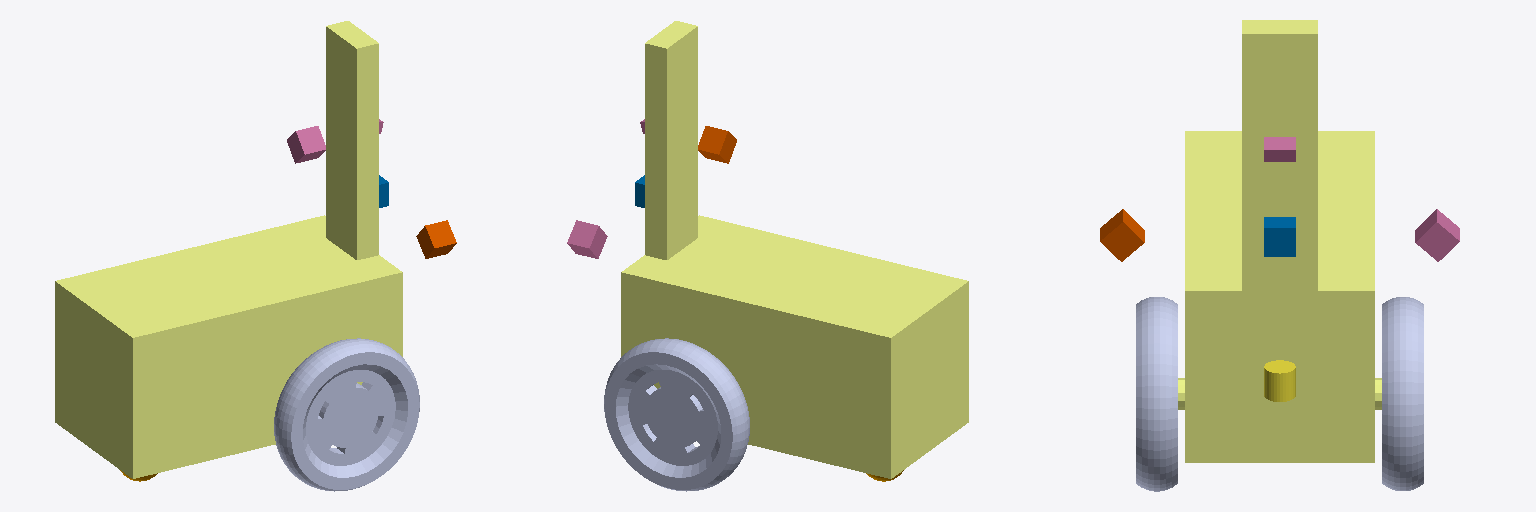
URDF robot description (AutoBot):
<?xml version="1.0" encoding="utf-8"?>
<!-- This URDF was automatically created by SolidWorks to URDF Exporter! Originally created by [author] ([email redacted]) 
     Commit Version: 1.6.0-1-g15f4949  Build Version: 1.6.7594.29634
     For more information, please see http://wiki.ros.org/sw_urdf_exporter -->
<robot
  name="AutoBot">
  <link
    name="base_link">
    <inertial>
      <origin
        xyz="-0.0281176186318505 3.46944695195361E-18 0.0242056021265495"
        rpy="0 0 0" />
      <mass
        value="20" />
      <inertia
        ixx="39.3347960457863"
        ixy="2.85952776841653E-16"
        ixz="-8.3846836729522"
        iyy="84.2765821819787"
        iyz="5.58570830390226E-15"
        izz="71.4566092301352" />
    </inertial>
    <visual>
      <origin
        xyz="0 0 0"
        rpy="0 0 0" />
      <geometry>
        <mesh
          filename="package://AutoBot/meshes/base_link.STL" />
      </geometry>
      <material
        name="">
        <color
          rgba="0.968627450980392 1 0.576470588235294 1" />
      </material>
    </visual>
    <collision>
      <origin
        xyz="0 0 0"
        rpy="0 0 0" />
      <geometry>
        <mesh
          filename="package://AutoBot/meshes/base_link.STL" />
      </geometry>
    </collision>
  </link>
  <link
    name="base_link_to_Left_wheel">
    <inertial>
      <origin
        xyz="5.5511E-17 -0.029868 -1.1102E-16"
        rpy="0 0 0" />
      <mass
        value="8" />
      <inertia
        ixx="0.75096"
        ixy="-1.4332E-17"
        ixz="-1.5881E-17"
        iyy="1.4522"
        iyz="9.1965E-17"
        izz="0.75096" />
    </inertial>
    <visual>
      <origin
        xyz="0 0 0"
        rpy="0 0 0" />
      <geometry>
        <mesh
          filename="package://AutoBot/meshes/base_link_to_Left_wheel.STL" />
      </geometry>
      <material
        name="">
        <color
          rgba="0.79216 0.81961 0.93333 1" />
      </material>
    </visual>
    <collision>
      <origin
        xyz="0 0 0"
        rpy="0 0 0" />
      <geometry>
        <mesh
          filename="package://AutoBot/meshes/base_link_to_Left_wheel.STL" />
      </geometry>
    </collision>
  </link>
  <joint
    name="Left_wheel"
    type="continuous">
    <origin
      xyz="0.24475 0.42 -0.2107"
      rpy="0 0 0" />
    <parent
      link="base_link" />
    <child
      link="base_link_to_Left_wheel" />
    <axis
      xyz="0 1 0" />
  </joint>
  <link
    name="base_link_to_Right_wheel">
    <inertial>
      <origin
        xyz="2.2204E-16 0.029868 -1.1102E-16"
        rpy="0 0 0" />
      <mass
        value="8" />
      <inertia
        ixx="0.75096"
        ixy="1.9739E-18"
        ixz="-6.8063E-17"
        iyy="1.4522"
        iyz="4.3994E-18"
        izz="0.75096" />
    </inertial>
    <visual>
      <origin
        xyz="0 0 0"
        rpy="0 0 0" />
      <geometry>
        <mesh
          filename="package://AutoBot/meshes/base_link_to_Right_wheel.STL" />
      </geometry>
      <material
        name="">
        <color
          rgba="0.79216 0.81961 0.93333 1" />
      </material>
    </visual>
    <collision>
      <origin
        xyz="0 0 0"
        rpy="0 0 0" />
      <geometry>
        <mesh
          filename="package://AutoBot/meshes/base_link_to_Right_wheel.STL" />
      </geometry>
    </collision>
  </link>
  <joint
    name="Right_wheel"
    type="continuous">
    <origin
      xyz="0.24475 -0.42 -0.2107"
      rpy="0 0 0" />
    <parent
      link="base_link" />
    <child
      link="base_link_to_Right_wheel" />
    <axis
      xyz="0 1 0" />
  </joint>

  <link name="lidar">
    <visual>
      <geometry>
        <cylinder radius="0.05" length="0.1"/>
      </geometry>
    </visual>
  </link>

  <gazebo reference="lidar">
    <sensor type="ray" name="lidar">
      <visualize>true</visualize>
      <update_rate>10</update_rate>
      <ray>
        <!-- Use gaussian noise -->
        <!--
        <noise>
        <type>gaussian</type>
        <mean>0.0</mean>
        <stddev>0.02</stddev>
      </noise>
      -->
        <scan>
          <horizontal>
            <samples>100</samples>
            <resolution>3.6</resolution>
            <min_angle>-1.53589</min_angle>
            <max_angle>1.53589</max_angle>
          </horizontal>
        </scan>
        <range>
          <min>0.05</min>
          <max>30</max>
          <resolution>0.02</resolution>
        </range>
      </ray>
      <plugin name="lidar_plugin" filename="libgazebo_ros_laser.so">
        <topicName>/scan</topicName>
        <frameName>/lidar</frameName>
      </plugin>
    </sensor>
  </gazebo>

  <link name="usb_cam_center">
    <visual>
      <geometry>
        <box size="0.1 0.1 0.1"/>
      </geometry>
    </visual>
  </link>

  <link name="usb_cam_right">
    <visual>
      <geometry>
        <box size="0.1 0.1 0.1"/>
      </geometry>
    </visual>
  </link>

  <link name="usb_cam_left">
    <visual>
      <geometry>
        <box size="0.1 0.1 0.1"/>
      </geometry>
    </visual>
  </link>

  <link name="optical_cam_center"/>
  <link name="optical_cam_right"/>
  <link name="optical_cam_left"/> 
  <link name="optical_depth_cam"/>
  <link name="optical_lidar"/>

  <gazebo reference="usb_cam_center">
    <sensor name="center_camera" type="camera">
        <camera>
          <!-- <horizontal_fov>1.2290609</horizontal_fov> -->
          <horizontal_fov>2.239</horizontal_fov>
          <vertical_fov>1.995</vertical_fov>
          <image>
            <width>640</width>
            <height>512</height>
          </image>
          <clip>
            <near>0.1</near>
            <far>100</far>
          </clip>
          <!--
          <distortion>
            <k1>-0.25</k1>
            <k2>0.12</k2>
            <k3>0.0</k3>
            <p1>-0.00028</p1>
            <p2>-0.00005</p2>
            <center>0.5 0.5</center>
          </distortion>
          -->
        </camera>
        <always_on>1</always_on>
        <update_rate>30</update_rate>
        <plugin name="camera_controller" filename="libgazebo_ros_camera.so">
          <alwaysOn>true</alwaysOn>
          <updateRate>30.0</updateRate>
          <cameraName>usb_cam_center</cameraName>
          <imageTopicName>image_raw_center</imageTopicName>
          <cameraInfoTopicName>camera_info</cameraInfoTopicName>
          <frameName>optical_cam_center</frameName>
          <hackBaseline>0.0</hackBaseline>
          <distortionK1>0.0</distortionK1>
          <distortionK2>0.0</distortionK2>
          <distortionK3>0.0</distortionK3>
          <distortionT1>0.0</distortionT1>
          <distortionT2>0.0</distortionT2>
        </plugin>
      </sensor>
  </gazebo>

  <gazebo reference="usb_cam_right">
    <sensor name="right_camera" type="camera">
        <camera>
          <!-- <horizontal_fov>1.2290609</horizontal_fov> -->
          <horizontal_fov>2.239</horizontal_fov>
          <vertical_fov>1.995</vertical_fov>
          <image>
            <width>640</width>
            <height>512</height>
          </image>
          <clip>
            <near>0.1</near>
            <far>100</far>
          </clip>
          <!--
          <distortion>
            <k1>-0.25</k1>
            <k2>0.12</k2>
            <k3>0.0</k3>
            <p1>-0.00028</p1>
            <p2>-0.00005</p2>
            <center>0.5 0.5</center>
          </distortion>
          -->
        </camera>
        <always_on>1</always_on>
        <update_rate>30</update_rate>
        <plugin name="camera_controller" filename="libgazebo_ros_camera.so">
          <alwaysOn>true</alwaysOn>
          <updateRate>30.0</updateRate>
          <cameraName>usb_cam_right</cameraName>
          <imageTopicName>image_raw_right</imageTopicName>
          <cameraInfoTopicName>camera_info</cameraInfoTopicName>
          <frameName>optical_cam_right</frameName>
          <hackBaseline>0.0</hackBaseline>
          <distortionK1>0.0</distortionK1>
          <distortionK2>0.0</distortionK2>
          <distortionK3>0.0</distortionK3>
          <distortionT1>0.0</distortionT1>
          <distortionT2>0.0</distortionT2>
        </plugin>
      </sensor>
  </gazebo>

  <gazebo reference="usb_cam_left">
    <sensor name="left_camera" type="camera">
        <camera>
          <!-- <horizontal_fov>1.2290609</horizontal_fov> -->
          <horizontal_fov>2.239</horizontal_fov>
          <vertical_fov>1.995</vertical_fov>
          <image>
            <width>640</width>
            <height>512</height>
          </image>
          <clip>
            <near>0.1</near>
            <far>100</far>
          </clip>
          <!--
          <distortion>
            <k1>-0.25</k1>
            <k2>0.12</k2>
            <k3>0.0</k3>
            <p1>-0.00028</p1>
            <p2>-0.00005</p2>
            <center>0.5 0.5</center>
          </distortion>
          -->
        </camera>
        <always_on>1</always_on>
        <update_rate>30</update_rate>
        <plugin name="camera_controller" filename="libgazebo_ros_camera.so">
          <alwaysOn>true</alwaysOn>
          <updateRate>30.0</updateRate>
          <cameraName>usb_cam_left</cameraName>
          <imageTopicName>image_raw_left</imageTopicName>
          <cameraInfoTopicName>camera_info</cameraInfoTopicName>
          <frameName>optical_cam_left</frameName>
          <hackBaseline>0.0</hackBaseline>
          <distortionK1>0.0</distortionK1>
          <distortionK2>0.0</distortionK2>
          <distortionK3>0.0</distortionK3>
          <distortionT1>0.0</distortionT1>
          <distortionT2>0.0</distortionT2>
        </plugin>
      </sensor>
  </gazebo>

  <link name="imu">
    <visual>
      <geometry>
        <box size="0.1 0.1 0.1"/>
      </geometry>
    </visual>
  </link>

  <link name="magnetometer">
    <visual>
      <geometry>
        <box size="0.1 0.1 0.1"/>
      </geometry>
    </visual>
  </link>

  <link name="kinect_cam">
    <visual>
      <geometry>
        <box size="0.1 0.1 0.05"/>
      </geometry>
    </visual>
  </link>

  <link name="gps">
    <visual>
      <geometry>
        <cylinder length="0.05" radius="0.1"/>
      </geometry>
    </visual>
  </link>

  <gazebo>

    <plugin name="gazebo_ros_control" filename="libgazebo_ros_control.so">
      <robotSimType>gazebo_ros_control/DefaultRobotHWSim</robotSimType>
    </plugin>

    <plugin filename="libhector_gazebo_ros_imu.so" name="imu">
      <serviceName>/imu/calibrate</serviceName>
      <updateRate>200.0</updateRate>
      <bodyName>imu</bodyName>
      <frameId>imu</frameId>
      <topicName>/imu</topicName>
      <rpyOffset>0 0 0</rpyOffset>
      <xyzOffset>0 0 0</xyzOffset>
      <gaussianNoise>0.00000001</gaussianNoise>
      <accelDrift>0.00000001 0.00000001 0.00000001</accelDrift>
      <accelDriftFrequency>0.00000001 0.00000001 0.00000001</accelDriftFrequency>
      <accelGaussianNoise>0.00000001 0.00000001 0.00000001</accelGaussianNoise>
      <rateDrift>0.0 0.0 0.0</rateDrift>
      <rateDriftFrequency>0.0 0.0 0.0</rateDriftFrequency>
      <rateGaussianNoise>0.0 0.0 0.0</rateGaussianNoise>
      <headingDrift>0.0 0.0 0.0</headingDrift>
      <headingDriftFrequency>0.0 0.0 0.0</headingDriftFrequency>
      <headingGaussianNoise>0.0 0.0 0.0</headingGaussianNoise>
      <yawOffset>1.5707963</yawOffset>
    </plugin>
    <plugin filename="libhector_gazebo_ros_imu.so" name="magnetometer">
      <serviceName>/magnetometer/calibrate</serviceName>
      <updateRate>200.0</updateRate>
      <bodyName>magnetometer</bodyName>
      <frameId>magnetometer</frameId>
      <topicName>/magnetometer</topicName>
      <rpyOffset>0 0 0</rpyOffset>
      <xyzOffset>0 0 0</xyzOffset>
      <gaussianNoise>0.00000001</gaussianNoise>
      <accelDrift>0.00000001 0.00000001 0.00000001</accelDrift>
      <accelDriftFrequency>0.00000001 0.00000001 0.00000001</accelDriftFrequency>
      <accelGaussianNoise>0.00000001 0.00000001 0.00000001</accelGaussianNoise>
      <rateDrift>0.0 0.0 0.0</rateDrift>
      <rateDriftFrequency>0.0 0.0 0.0</rateDriftFrequency>
      <rateGaussianNoise>0.0 0.0 0.0</rateGaussianNoise>
      <headingDrift>0.0 0.0 0.0</headingDrift>
      <headingDriftFrequency>0.0 0.0 0.0</headingDriftFrequency>
      <headingGaussianNoise>0.0 0.0 0.0</headingGaussianNoise>
      <yawOffset>0</yawOffset>
    </plugin>

    <plugin filename="libhector_gazebo_ros_gps.so" name="gps">
      <updateRate>20.0</updateRate>
      <bodyName>base_link</bodyName>
      <frameId>base_link</frameId>
      <topicName>/fix</topicName>
      <velocityTopicName>/fix_velocity</velocityTopicName>
      <referenceLatitude>33.774497</referenceLatitude>
      <referenceLongitude>-84.405001</referenceLongitude>
      <referenceAltitude>309.0</referenceAltitude>
      <drift>0.001 0.001 0.001</drift>
      <gaussianNoise>0.0001 0.0001 0.0001</gaussianNoise>
      <velocityDrift>0 0 0</velocityDrift>
      <velocityGaussianNoise>0.005 0.005 0.05</velocityGaussianNoise>
    </plugin>

    <plugin name="differential_drive_controller" filename="libgazebo_ros_diff_drive.so">
      <updateRate>50</updateRate>
      <leftJoint>Left_wheel</leftJoint>
      <rightJoint>Right_wheel</rightJoint>
      <wheelSeparation>0.8</wheelSeparation>
      <wheelDiameter>0.31</wheelDiameter>
      <wheelAcceleration>1.0</wheelAcceleration>
      <wheelTorque>20</wheelTorque>
      <commandTopic>cmd_vel</commandTopic>
      <odometryTopic>odom</odometryTopic>
      <odometryFrame>odom</odometryFrame>
      <robotBaseFrame>base_link</robotBaseFrame>
      
      <odometrySource>1</odometrySource>
      <publishWheelTF>true</publishWheelTF>
      <publishOdom>true</publishOdom>
      <publishWheelJointState>true</publishWheelJointState>
      
      <legacyMode>false</legacyMode>
    </plugin> 
  
  </gazebo>

  <gazebo reference="kinect_cam">
    <sensor name="depth_camera" type="depth">
      <update_rate>30</update_rate>
      <camera>
        <horizontal_fov>1.047198</horizontal_fov>
        <image>
          <width>640</width>
          <height>480</height>
          <format>R8G8B8</format>
        </image>
        <clip>
          <near>0.05</near>
          <far>5</far>
        </clip>
      </camera>
      <plugin name="kinect_cam_controller" filename="libgazebo_ros_openni_kinect.so">
        <baseline>0.2</baseline>
        <alwaysOn>true</alwaysOn>
        <updateRate>1.0</updateRate>
        <cameraName>kinect_cam</cameraName>
        <imageTopicName>/camera/color/image_raw</imageTopicName>
        <cameraInfoTopicName>/camera/color/camera_info</cameraInfoTopicName>
        <depthImageTopicName>/camera/depth/image_raw</depthImageTopicName>
        <depthImageInfoTopicName>/camera/depth/camera_info</depthImageInfoTopicName>
        <pointCloudTopicName>/camera/depth/points</pointCloudTopicName>
        <frameName>optical_depth_cam</frameName>
        <pointCloudCutoff>0.5</pointCloudCutoff>
        <pointCloudCutoffMax>3.0</pointCloudCutoffMax>
        <distortionK1>0.00000001</distortionK1>
        <distortionK2>0.00000001</distortionK2>
        <distortionK3>0.00000001</distortionK3>
        <distortionT1>0.00000001</distortionT1>
        <distortionT2>0.00000001</distortionT2>
        <CxPrime>0</CxPrime>
        <Cx>0</Cx>
        <Cy>0</Cy>
        <focalLength>0</focalLength>
        <hackBaseline>0</hackBaseline>
      </plugin>
    </sensor>
  </gazebo>

  <transmission name="trans_left_wheel">
    <type>transmission_interface/SimpleTransmission</type>
    <joint name="Left_wheel">
      <hardwareInterface>hardware_interface/EffortJointInterface</hardwareInterface>
    </joint>
    <actuator name="motor1">
      <hardwareInterface>hardware_interface/EffortJointInterface</hardwareInterface>
      <mechanicalReduction>1</mechanicalReduction>
    </actuator>
  </transmission>

  <transmission name="trans_right_wheel">
    <type>transmission_interface/SimpleTransmission</type>
    <joint name="Right_wheel">
      <hardwareInterface>hardware_interface/EffortJointInterface</hardwareInterface>
    </joint>
    <actuator name="motor1">
      <hardwareInterface>hardware_interface/EffortJointInterface</hardwareInterface>
      <mechanicalReduction>1</mechanicalReduction>
    </actuator>
  </transmission>
  
  <gazebo reference="base_link">
    <material>Gazebo/Grey</material>
    <mu1>0.2</mu1>
    <mu2>0.2</mu2>
  </gazebo>

  <gazebo reference="Left_wheel">
    <material>Gazebo/Grey</material>
    <mu1>0.4</mu1>
    <mu2>0.4</mu2>
  </gazebo>

  <gazebo reference="Right_wheel">
    <material>Gazebo/Grey</material>
    <mu1>0.4</mu1>
    <mu2>0.4</mu2>
  </gazebo>


  <joint name="base_link_to_imu" type="fixed">
    <parent link="base_link"/>
    <child link="imu"/>
    <origin xyz=" 0 0 0" rpy="0 0 0"/>
    <axis xyz="0 0 0"/>
  </joint>

  <joint name="base_link_to_magnetometer" type="fixed">
    <parent link="base_link"/>
    <child link="magnetometer"/>
    <origin xyz="0 0 0" rpy="0 0 0"/>
    <axis xyz="0 0 0"/>
  </joint>


  <joint name="base_link_to_lidar" type="fixed">
    <origin xyz="0.6 0 0" rpy="0 0 0" />
    <parent link="base_link"/>
    <child link="lidar"/>
  </joint>
  <joint name="optical_lidar_joint" type="fixed">
    <parent link="lidar"/>
    <child link="optical_lidar"/>
    <origin xyz="0 0 0" rpy="0 0 0"/>
  </joint>

<!-- center cam link orientation-->
  <joint name="base_link_to_center_camera" type="fixed">
    <origin xyz="0.58 0 0.5" rpy="0 0 0" />
    <parent link="base_link"/>
    <child link="usb_cam_center"/>
  </joint>
  <joint name="optical_cam_center_joint" type="fixed">
    <parent link="usb_cam_center"/>
    <child link="optical_cam_center"/>
    <origin xyz="0 0 0" rpy="-1.5708 0 -1.5708"/>
  </joint>

<!-- right cam link orientation-->
  <joint name="base_link_to_right_camera" type="fixed">
    <origin xyz="0.58 -0.5 0.5" rpy="0 0.75 -1.5708" />
    <parent link="base_link"/>
    <child link="usb_cam_right"/>
  </joint>
  <joint name="optical_cam_right_joint" type="fixed">
    <parent link="usb_cam_right"/>
    <child link="optical_cam_right"/>
    <!--origin xyz="0 0 0" rpy="-1.5708-0.5 0 -1.5708"/-->
    <origin xyz="0 0 0" rpy="-1.5708 0 -1.5708"/>
  </joint>

<!-- left cam link orientation-->
  <joint name="base_link_to_left_camera" type="fixed">
    <origin xyz="0.58 0.5 0.5" rpy="0 0.75 1.5708" />
    <parent link="base_link"/>
    <child link="usb_cam_left"/>
  </joint>
  <joint name="optical_cam_left_joint" type="fixed">
    <parent link="usb_cam_left"/>
    <child link="optical_cam_left"/>
    <origin xyz="0 0 0" rpy="-1.5708 0 -1.5708"/>
  </joint> 

  <!-- depth cam link orientation-->
  <joint name="base_link_to_kinect_cam" type="fixed">
    <origin xyz="0.55 0 0.8" rpy="0 0.2617 0" />
    <parent link="base_link"/>
    <child link="kinect_cam"/>
  </joint>
  <joint name="optical_depth_cam_joint" type="fixed">
    <parent link="kinect_cam"/>
    <child link="optical_depth_cam"/>
    <origin xyz="0 0 0" rpy="-1.5708 0 -1.5708"/>
    <!--<origin xyz="0 0 0" rpy="1.5708 0 0"/>-->
  </joint>

  <joint name="base_link_to_gps" type="fixed">
    <origin xyz="0 0 0" rpy="0 0 0" /> <!-- -1.5708 -->
    <parent link="base_link"/>
    <child link="gps"/>
  </joint>

  <link name="caster">
    <inertial>
      <mass value="1.0" />
      <origin xyz="0 0 0" />
      <mass value="10.0" />
      <inertia  ixx="0.1" ixy="0.0"  ixz="0.0"  iyy="0.1"  iyz="0.0"  izz="0.1" />
    </inertial>
    <visual>
      <geometry>
        <sphere radius="0.09"/>
      </geometry>
    </visual>
    <collision>
      <geometry>
        <sphere radius="0.09"/>
      </geometry>
    </collision>
  </link>

  <joint name="base_link_to_caster" type="fixed">
    <parent link="base_link"/>
    <child link="caster"/>
    <origin xyz="-0.45 0.0 -0.39" rpy="0 0 0" />
  </joint>
 
 <gazebo reference="caster">
    <mu2>0.1</mu2>
    <mu1>0.1</mu1>
  </gazebo>

   <gazebo> 
    <joint name='base_link_to_caster' type='ball'>
      <parent>base_link</parent>
      <child>caster</child>
      <pose frame=''>0 0 0 0 0 0</pose>
     
    </joint>
  </gazebo> 

</robot>

--- What the picture shows (computed from the rendered views, not written in the file) ---
3 views of the same robot in one strip: view 1: azimuth 30°, elevation 25°; view 2: azimuth 150°, elevation 25°; view 3: azimuth 270°, elevation 25° (orthographic).
Model AutoBot with 17 links and 16 joints (2 continuous, 14 fixed), rooted at base_link, posed all joints at 0.
Links seen in each view (by area): view 1: base_link, base_link_to_Right_wheel, usb_cam_right, usb_cam_left; view 2: base_link, base_link_to_Left_wheel, usb_cam_left, usb_cam_right; view 3: base_link, base_link_to_Right_wheel, base_link_to_Left_wheel, usb_cam_right, usb_cam_left, usb_cam_center, lidar, kinect_cam.
Link boxes in pixels (x1,y1,x2,y2): base_link: [55, 21, 402, 478]; base_link_to_Right_wheel: [274, 338, 419, 491]; usb_cam_right: [416, 220, 456, 258]; usb_cam_left: [287, 126, 325, 163]; base_link: [621, 21, 968, 478]; base_link_to_Left_wheel: [604, 338, 749, 491]; usb_cam_left: [567, 220, 607, 258]; usb_cam_right: [698, 126, 736, 163]; base_link: [1178, 20, 1381, 462]; base_link_to_Right_wheel: [1136, 297, 1177, 491]; base_link_to_Left_wheel: [1382, 297, 1423, 490]; usb_cam_right: [1100, 209, 1144, 261]; usb_cam_left: [1415, 209, 1459, 261]; usb_cam_center: [1264, 217, 1295, 256]; lidar: [1264, 360, 1295, 401]; kinect_cam: [1264, 137, 1295, 161].
Bounding box of the posed robot: 1.31 × 1.14 × 1.71 m (x, y, z).
Meshes: 3 distinct files referenced, 3 mesh visuals loaded (3 binary STL).
